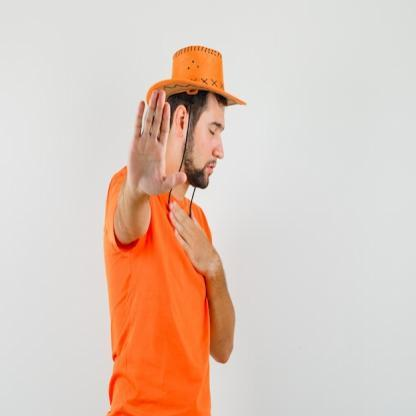stop: (122, 85, 190, 201)
